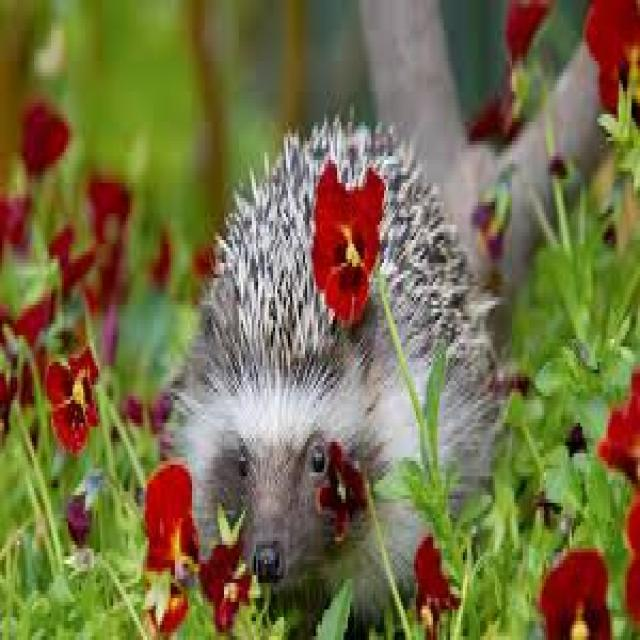Hedgehog: (156, 106, 498, 626)
